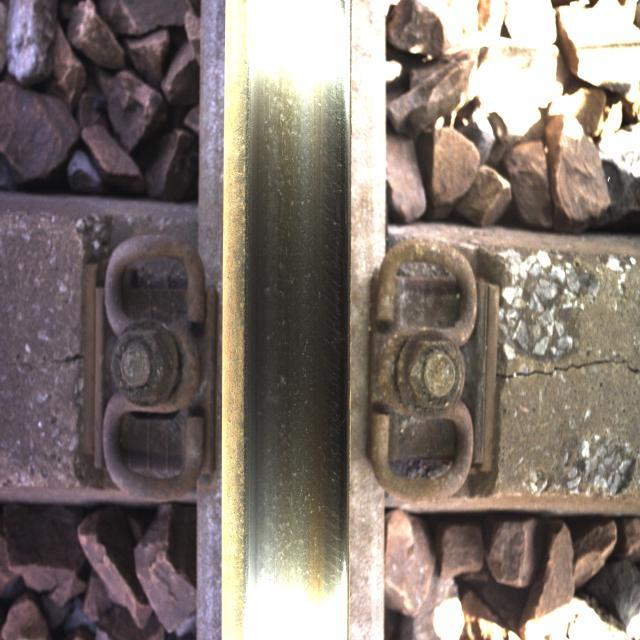break: (245, 39, 340, 621)
